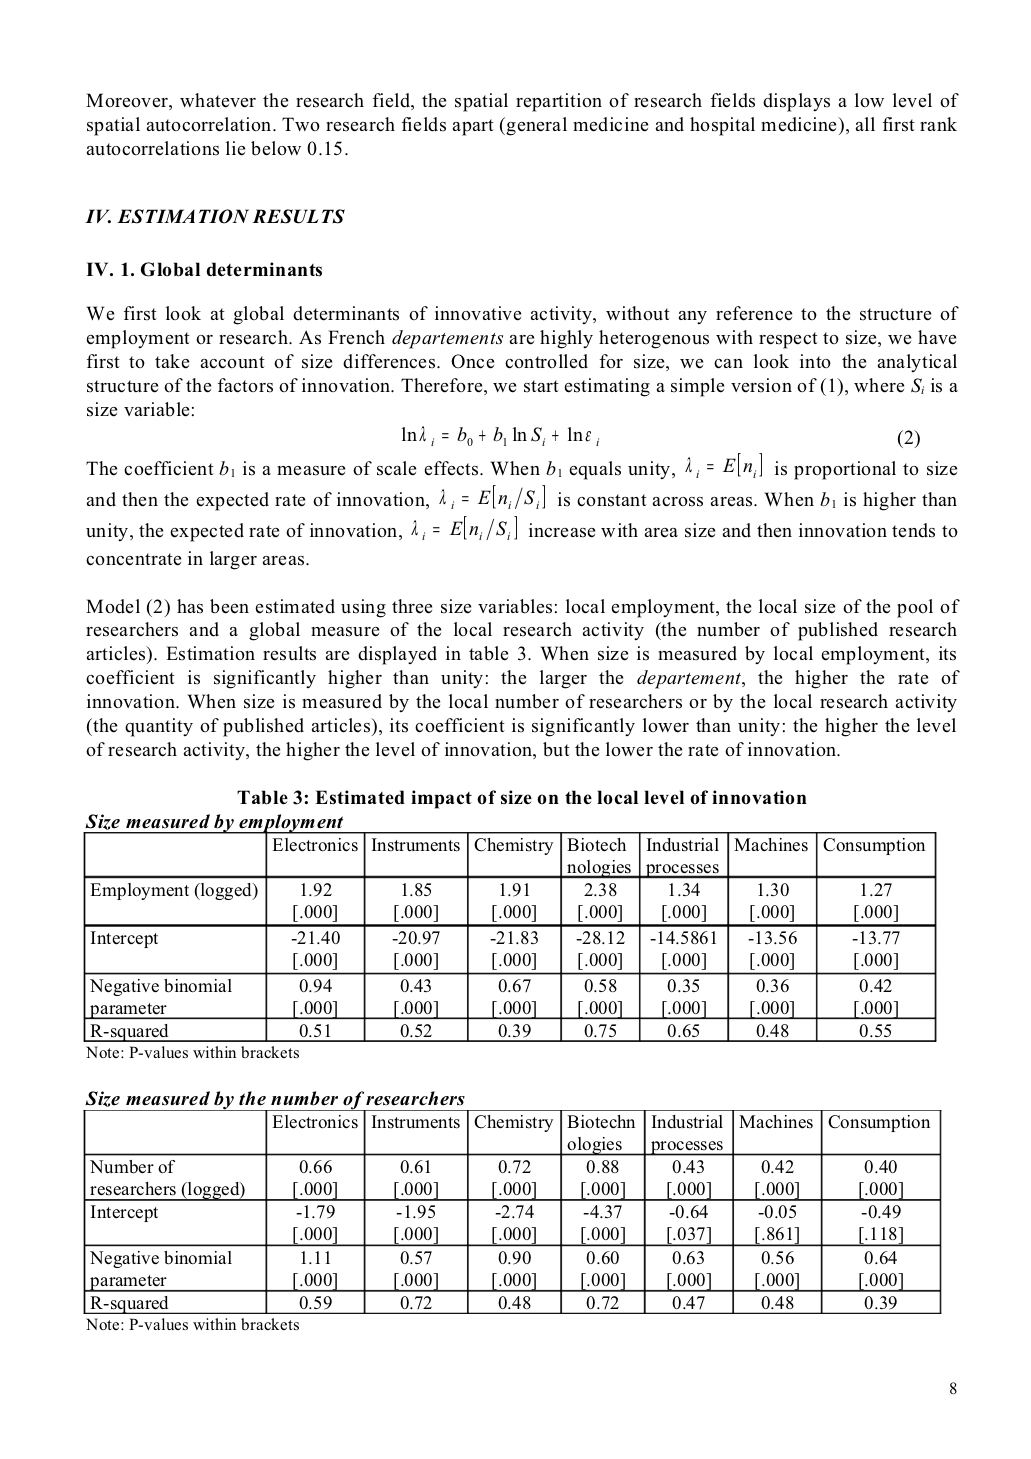Table: (83, 812, 936, 1042), (83, 1090, 941, 1314)
formula: (401, 425, 919, 448)
